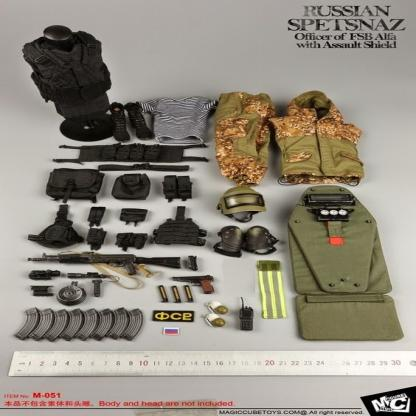Grenade: (203, 312, 228, 329), (206, 300, 230, 314)
Gun: (26, 249, 184, 276)
Pistol: (172, 274, 216, 296)
